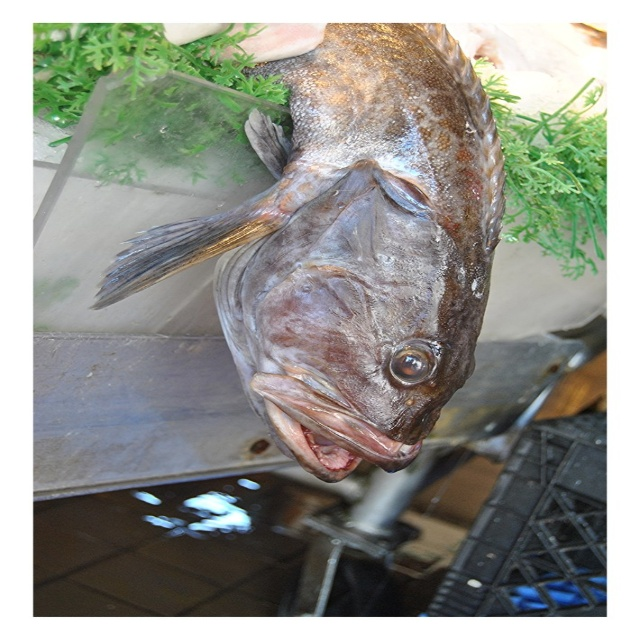Fish: (102, 30, 509, 515)
